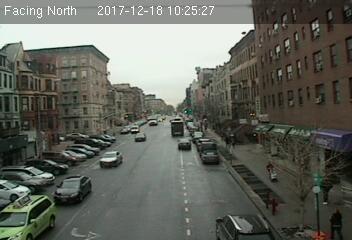car: (1, 193, 58, 240), (215, 210, 270, 240), (54, 173, 92, 201), (100, 150, 120, 166), (200, 149, 220, 163), (178, 138, 192, 150), (135, 133, 145, 140)
pedestrian: (327, 207, 347, 240)
ups: (171, 121, 185, 136)
